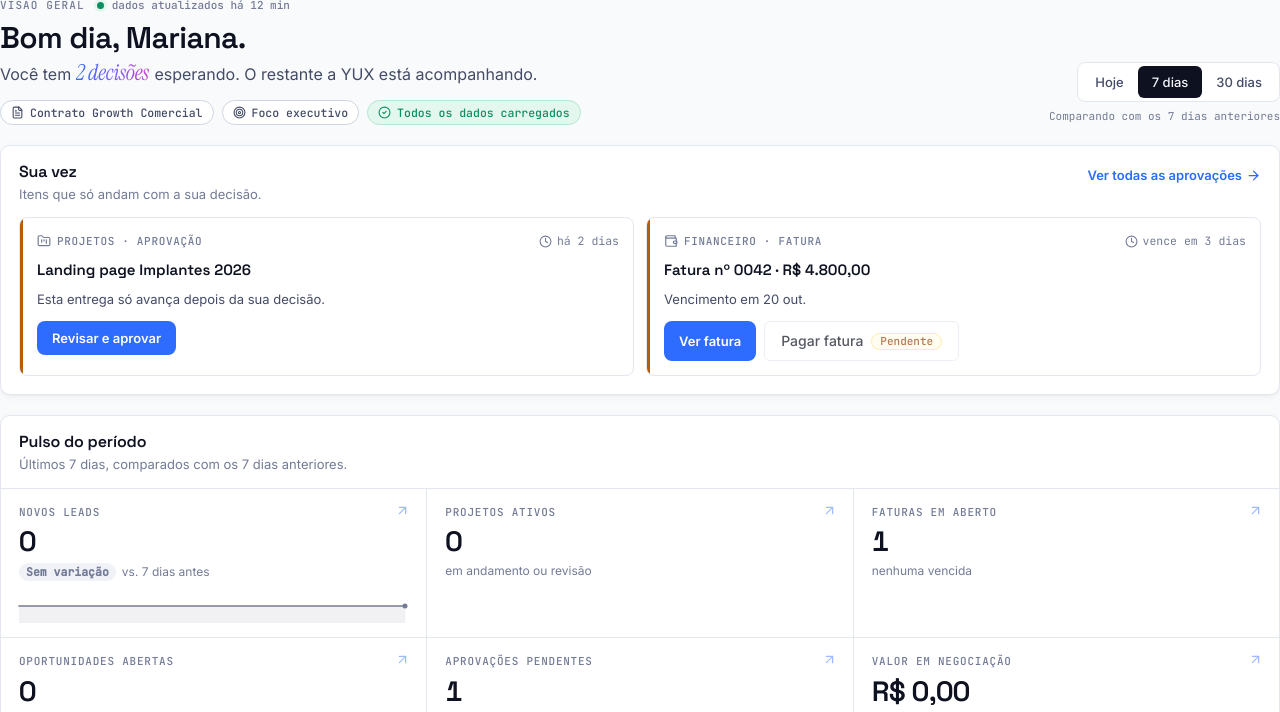
Scenario: PortalDashboardPage › mostra Sua vez com ações reais e Pagar fatura como pendente (B1)
The image size is (1280, 712).
What coordinates should you click on to do the following:
click the button "Pagar fatura Pendente"
I would click on:
 (862, 341)
Its box is [764,321,959,361].
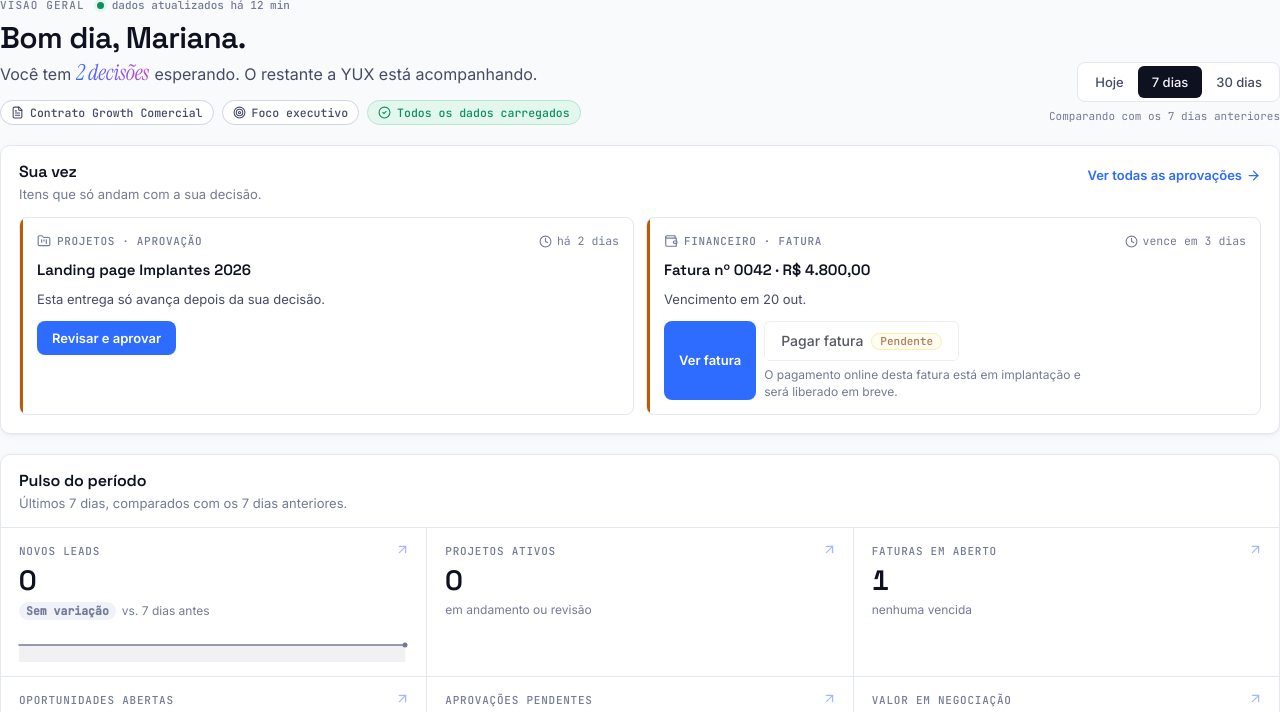
Check: the text "em implantação" is shown, box [764,367,1081,399]
